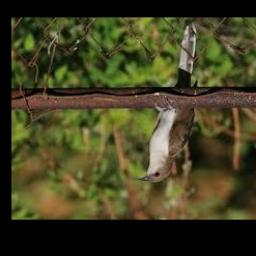Cuckoo: (138, 24, 197, 183)
